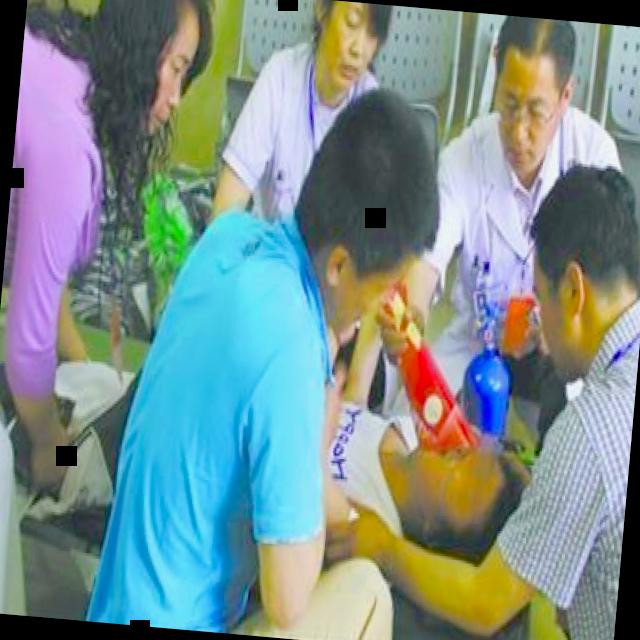Fall-Detected: (272, 295, 554, 624)
